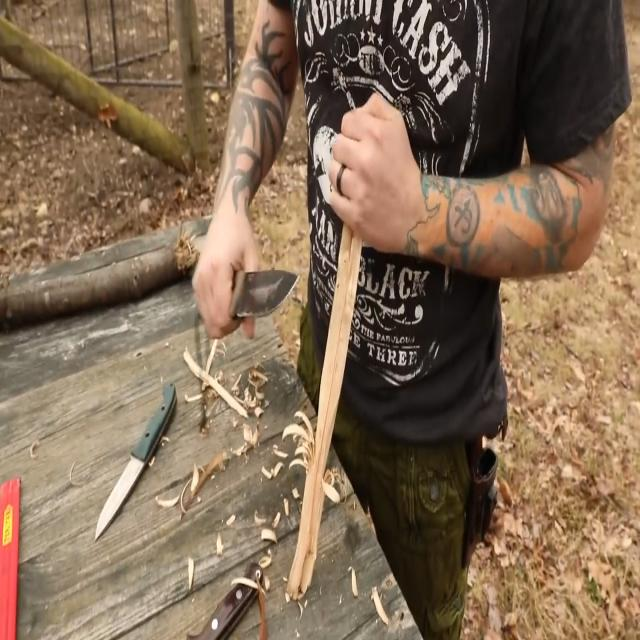knife: (93, 378, 179, 547), (234, 268, 302, 320)
